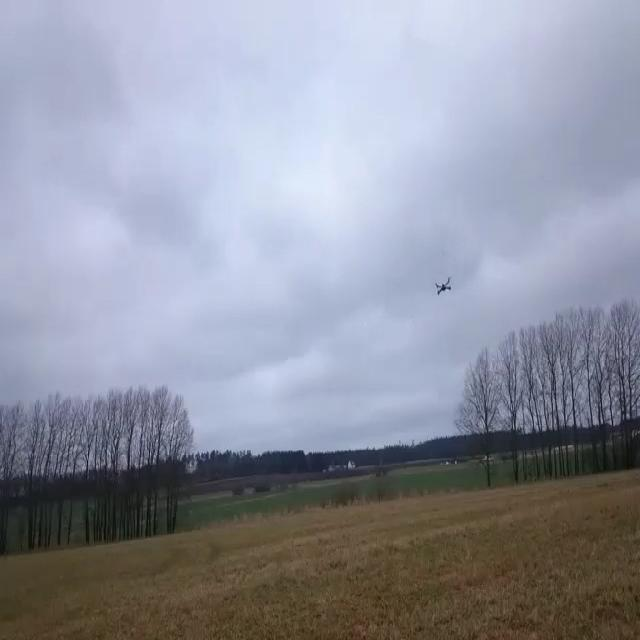drone: (434, 276, 452, 296)
